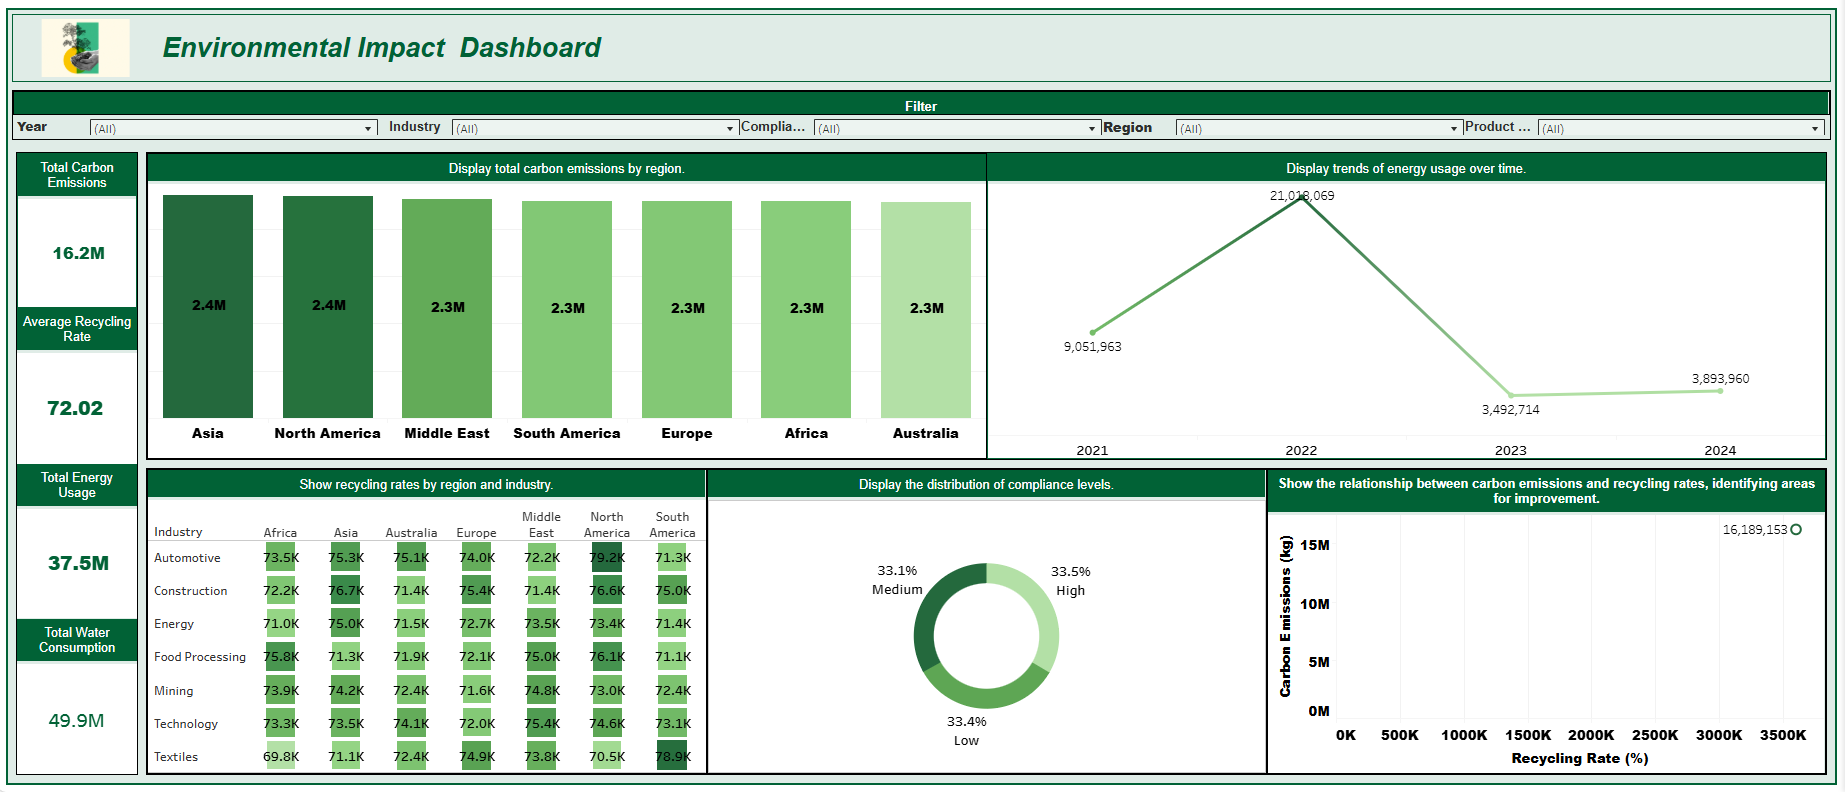

What the dashboard file says about the page in this screenshot:
{"tool":"tableau","page":{"name":"Dashboard 1","canvas":[1000,1000],"units":"permille","ordinal":0},"visuals":[{"type":"image","param":"C:/Users/singh/Downloads/Logo.jpg","box":[8.9,17.4,86,76.4]},{"type":"text","box":[94.8,17.4,896.3,76.4]},{"type":"worksheet","title":"Filter","mark":"Automatic","box":[8.9,105.3,982.2,38.2]},{"type":"filter","title":"Filter","param":"[federated.1o35uvd1pjo7641dx2izb0h4siiz].[none:Year:ok]","box":[11.3,148.2,195.6,27.8]},{"type":"filter","title":"Filter","param":"[federated.1o35uvd1pjo7641dx2izb0h4siiz].[none:Industry:nk]","box":[206.9,148.2,195.6,27.8]},{"type":"filter","title":"Filter","param":"[federated.1o35uvd1pjo7641dx2izb0h4siiz].[none:Compliance Level:nk]","box":[402.5,148.2,195.6,27.8]},{"type":"filter","title":"Filter","param":"[federated.1o35uvd1pjo7641dx2izb0h4siiz].[none:Region:nk]","box":[598.1,148.2,195.6,27.8]},{"type":"filter","title":"Filter","param":"[federated.1o35uvd1pjo7641dx2izb0h4siiz].[none:Product Type:nk]","box":[793.7,148.2,195,27.8]},{"type":"worksheet","title":"Total Carbon Emissions","mark":"Automatic","box":[11.2,196.8,71.1,195.3]},{"type":"worksheet","title":"Display total carbon emissions by region.","mark":"Bar","rows":["Carbon Emissions (kg)"],"cols":["Region"],"box":[88.3,196.8,450.5,385.4]},{"type":"worksheet","title":"Display trends of energy usage over time.","mark":"Line","rows":["Energy Usage (kWh)"],"cols":["Year"],"box":[538.8,196.8,449.9,385.4]},{"type":"worksheet","title":"Average Recycling Rate","mark":"Automatic","box":[11.2,392.1,71.1,195.3]},{"type":"worksheet","title":"Total Energy Usage","mark":"Automatic","box":[11.2,587.4,71.1,195.3]},{"type":"worksheet","title":"Show recycling rates by region and industry","mark":"Automatic","rows":["Industry"],"cols":["Region"],"box":[88.3,593.8,300.5,384.3]},{"type":"worksheet","title":"Display the distribution of compliance levels.","mark":"Pie","rows":["Calculation_710724377047367680","Calculation_710724377047367680"],"box":[388.9,593.8,299.9,384.3]},{"type":"worksheet","title":"Show the relationship between carbon emissions and recycling rates, identifying areas for improvement.","mark":"Automatic","rows":["Carbon Emissions (kg)"],"cols":["Recycling Rate (%)"],"box":[688.8,593.8,299.9,384.3]},{"type":"worksheet","title":"Total Water Consumption","mark":"Automatic","box":[11.2,782.7,71.1,195.3]}]}

Visuals, with their boxes on the dashboard's canvas, which has no fixed pixel size, in thousandths of its width and height (x1, y1, x2, y2). These are canvas units, not pixel positions in the 1846x792 screenshot, which may show the page scaled, cropped or inside an application window:
image: {"x1": 9, "y1": 17, "x2": 95, "y2": 94}
text: {"x1": 95, "y1": 17, "x2": 991, "y2": 94}
"Filter" worksheet: {"x1": 9, "y1": 105, "x2": 991, "y2": 144}
"Filter" filter: {"x1": 11, "y1": 148, "x2": 207, "y2": 176}
"Filter" filter: {"x1": 207, "y1": 148, "x2": 402, "y2": 176}
"Filter" filter: {"x1": 402, "y1": 148, "x2": 598, "y2": 176}
"Filter" filter: {"x1": 598, "y1": 148, "x2": 794, "y2": 176}
"Filter" filter: {"x1": 794, "y1": 148, "x2": 989, "y2": 176}
"Total Carbon Emissions" worksheet: {"x1": 11, "y1": 197, "x2": 82, "y2": 392}
"Display total carbon emissions by region." worksheet (Bar marks): {"x1": 88, "y1": 197, "x2": 539, "y2": 582}
"Display trends of energy usage over time." worksheet (Line marks): {"x1": 539, "y1": 197, "x2": 989, "y2": 582}
"Average Recycling Rate" worksheet: {"x1": 11, "y1": 392, "x2": 82, "y2": 587}
"Total Energy Usage" worksheet: {"x1": 11, "y1": 587, "x2": 82, "y2": 783}
"Show recycling rates by region and industry" worksheet: {"x1": 88, "y1": 594, "x2": 389, "y2": 978}
"Display the distribution of compliance levels." worksheet (Pie marks): {"x1": 389, "y1": 594, "x2": 689, "y2": 978}
"Show the relationship between carbon emissions and recycling rates, identifying areas for improvement." worksheet: {"x1": 689, "y1": 594, "x2": 989, "y2": 978}
"Total Water Consumption" worksheet: {"x1": 11, "y1": 783, "x2": 82, "y2": 978}
